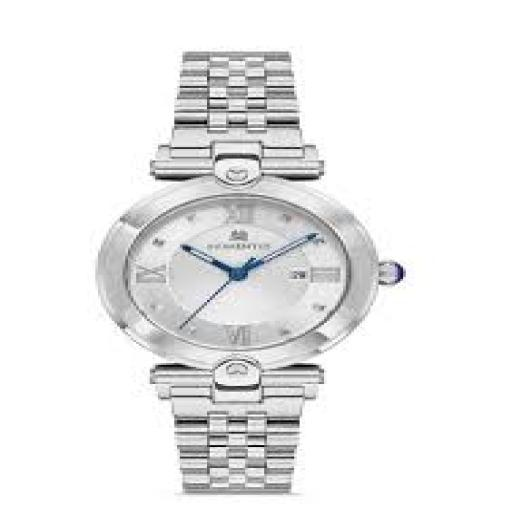KolSaati: (84, 26, 427, 512)
